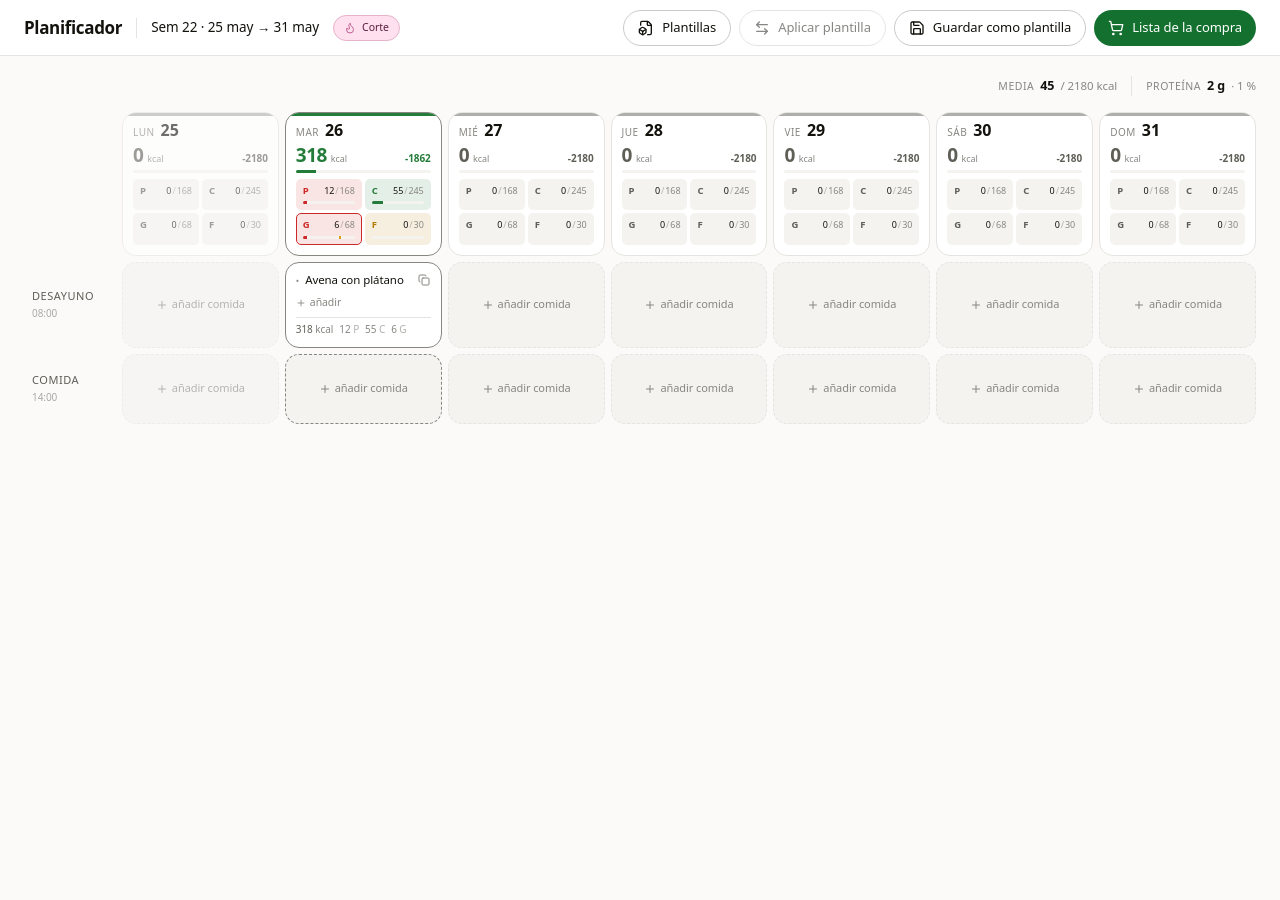
Test: PlanificadorPage — recipe peek › opens the peek (not the editor) from a grid bullet
Click the button "• Avena con plátano" at [351, 280], box x1=296 y1=272 x2=407 y2=287
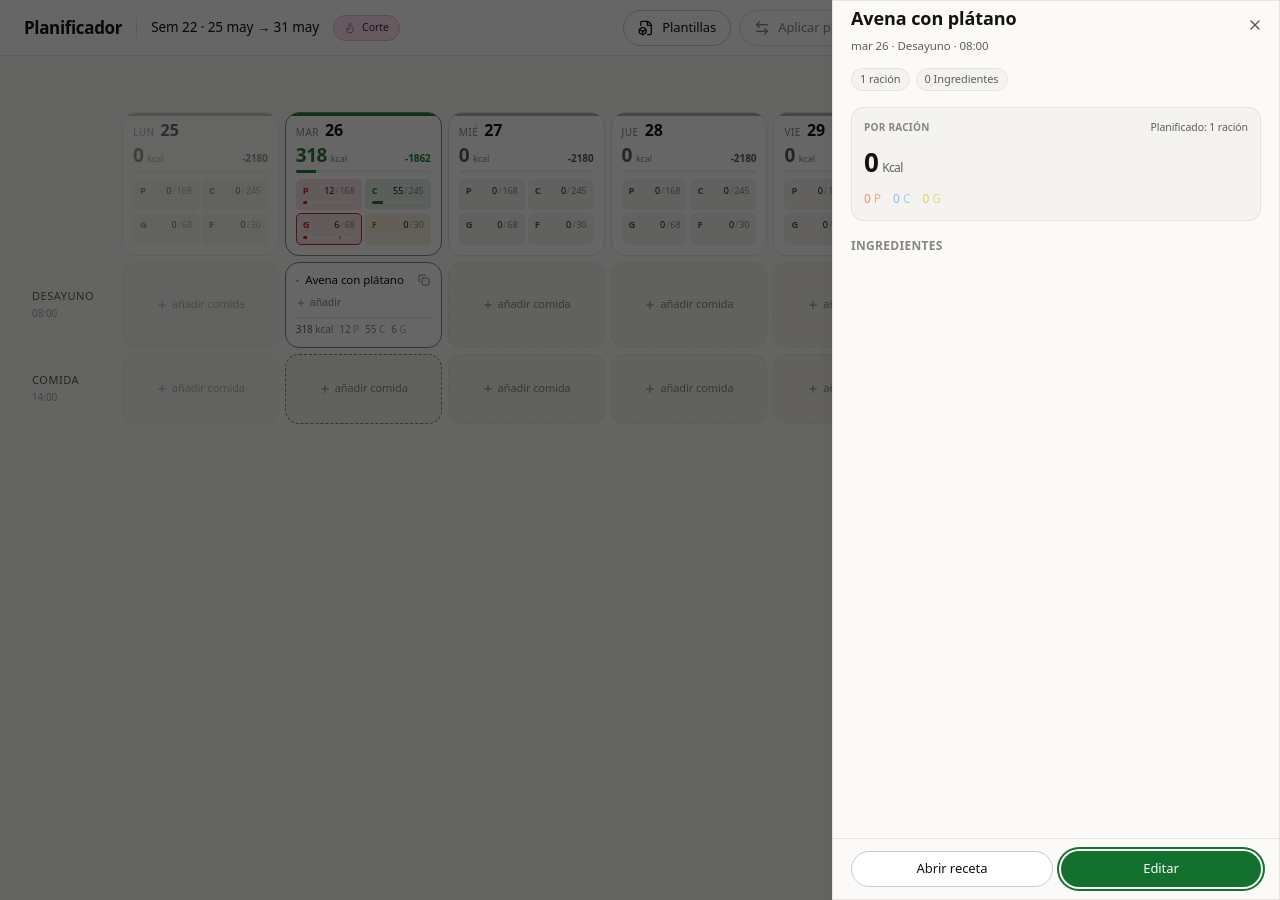
expect the link "Abrir receta" is shown: met, box x1=851 y1=851 x2=1053 y2=887
